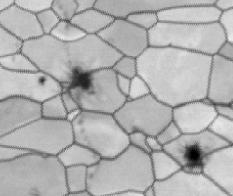good_void: (64, 64, 95, 108), (181, 140, 205, 171), (123, 119, 147, 141), (55, 14, 74, 30), (86, 169, 98, 182), (26, 186, 41, 196), (163, 39, 175, 51), (37, 75, 48, 85)
